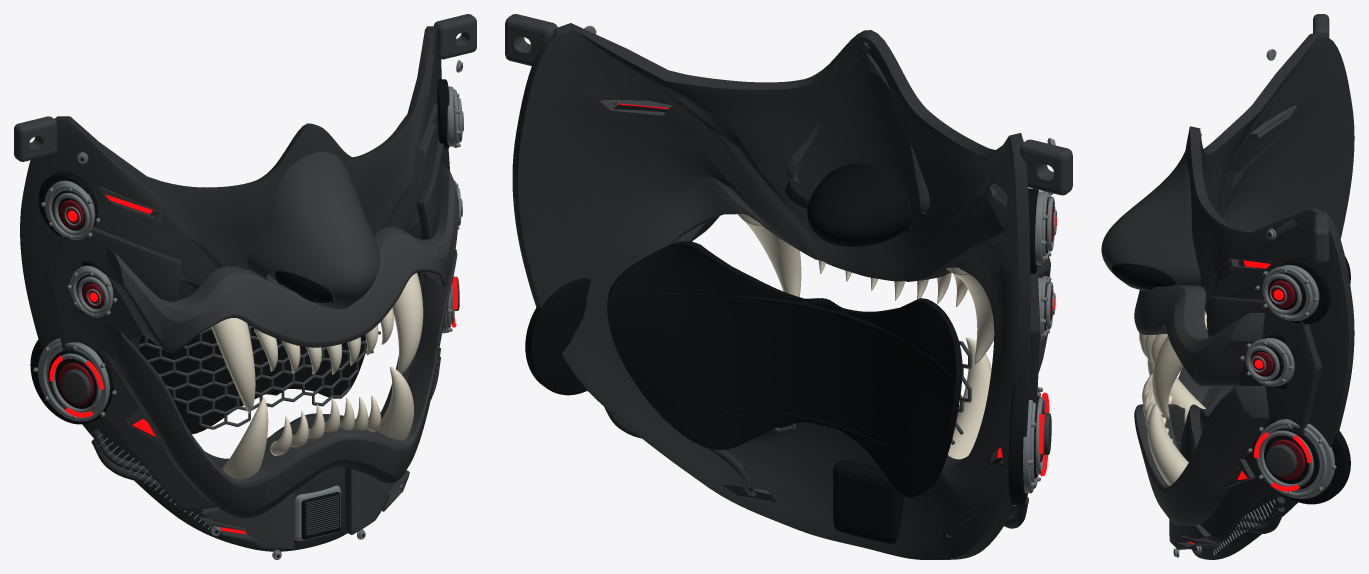
File: mask-oni-04-refined.glb
3 views of the same model, side by side, from view 1: azimuth 30°, elevation 25°; view 2: azimuth 150°, elevation 25°; view 3: azimuth 270°, elevation 25° (orthographic). The views are drawn at different scales.
Visible parts, largest first — view 1: Continuous sculpted face shell, Upper wraparound facial armor, Lower overlapping fang armor, Sculpted nose bridge and tip, Left Cheek layered armor, Dark mouth cavity back, Left Layered chin armor, Left Upper canine, Right Layered chin armor, Right Upper canine, Left Lower canine, Right Cheek layered armor (+19 smaller); view 2: Continuous sculpted face shell, Dark mouth cavity back, Enclosed internal nasal chamber, Right Sensor 2 gasket, Chin filter gasket, Left Lower canine, Left Strap lug, Right Upper canine, Right Strap lug, Sculpted nose bridge and tip, Left Upper canine, Left Sensor 2 gasket (+1 smaller); view 3: Continuous sculpted face shell, Lower overlapping fang armor, Right Cheek layered armor, Upper wraparound facial armor, Sculpted nose bridge and tip, Right Lower canine, Right Upper canine, Right Sensor 2 gasket, Right Sensor 0 gasket, Right Sensor 2 bezel, Right Sensor 2 inset, Enclosed internal nasal chamber (+22 smaller).
Boxes of the visible parts, x1=… form: Continuous sculpted face shell: x1=20, y1=26, x2=441, y2=551; Upper wraparound facial armor: x1=106, y1=165, x2=459, y2=352; Lower overlapping fang armor: x1=104, y1=249, x2=457, y2=517; Sculpted nose bridge and tip: x1=247, y1=151, x2=379, y2=309; Left Cheek layered armor: x1=45, y1=227, x2=216, y2=510; Dark mouth cavity back: x1=139, y1=324, x2=366, y2=434; Left Layered chin armor: x1=201, y1=492, x2=294, y2=549; Left Upper canine: x1=211, y1=318, x2=255, y2=413; Right Layered chin armor: x1=345, y1=467, x2=399, y2=534; Right Upper canine: x1=392, y1=273, x2=423, y2=374; Left Lower canine: x1=222, y1=397, x2=268, y2=479; Right Cheek layered armor: x1=407, y1=137, x2=449, y2=385; Continuous sculpted face shell: x1=512, y1=23, x2=1030, y2=559; Dark mouth cavity back: x1=607, y1=241, x2=962, y2=497; Enclosed internal nasal chamber: x1=807, y1=163, x2=911, y2=246; Right Sensor 2 gasket: x1=525, y1=278, x2=590, y2=395; Chin filter gasket: x1=833, y1=459, x2=904, y2=543; Left Lower canine: x1=947, y1=337, x2=991, y2=459; Left Strap lug: x1=1019, y1=139, x2=1072, y2=195; Right Upper canine: x1=738, y1=213, x2=801, y2=296; Right Strap lug: x1=505, y1=14, x2=557, y2=65; Sculpted nose bridge and tip: x1=786, y1=42, x2=929, y2=214; Left Upper canine: x1=946, y1=267, x2=994, y2=364; Left Sensor 2 gasket: x1=1008, y1=383, x2=1027, y2=504; Continuous sculpted face shell: x1=1180, y1=33, x2=1354, y2=559; Lower overlapping fang armor: x1=1134, y1=367, x2=1268, y2=525; Right Cheek layered armor: x1=1200, y1=296, x2=1321, y2=541; Upper wraparound facial armor: x1=1134, y1=285, x2=1264, y2=385; Sculpted nose bridge and tip: x1=1101, y1=133, x2=1201, y2=290; Right Lower canine: x1=1147, y1=402, x2=1188, y2=485; Right Upper canine: x1=1152, y1=310, x2=1207, y2=418; Right Sensor 2 gasket: x1=1267, y1=419, x2=1350, y2=504; Right Sensor 0 gasket: x1=1279, y1=258, x2=1330, y2=324; Right Sensor 2 bezel: x1=1268, y1=419, x2=1334, y2=498; Right Sensor 2 inset: x1=1264, y1=428, x2=1319, y2=489; Enclosed internal nasal chamber: x1=1120, y1=264, x2=1175, y2=289.
Bounding box in the file's own units: 2.54 × 2.26 × 1.24.
